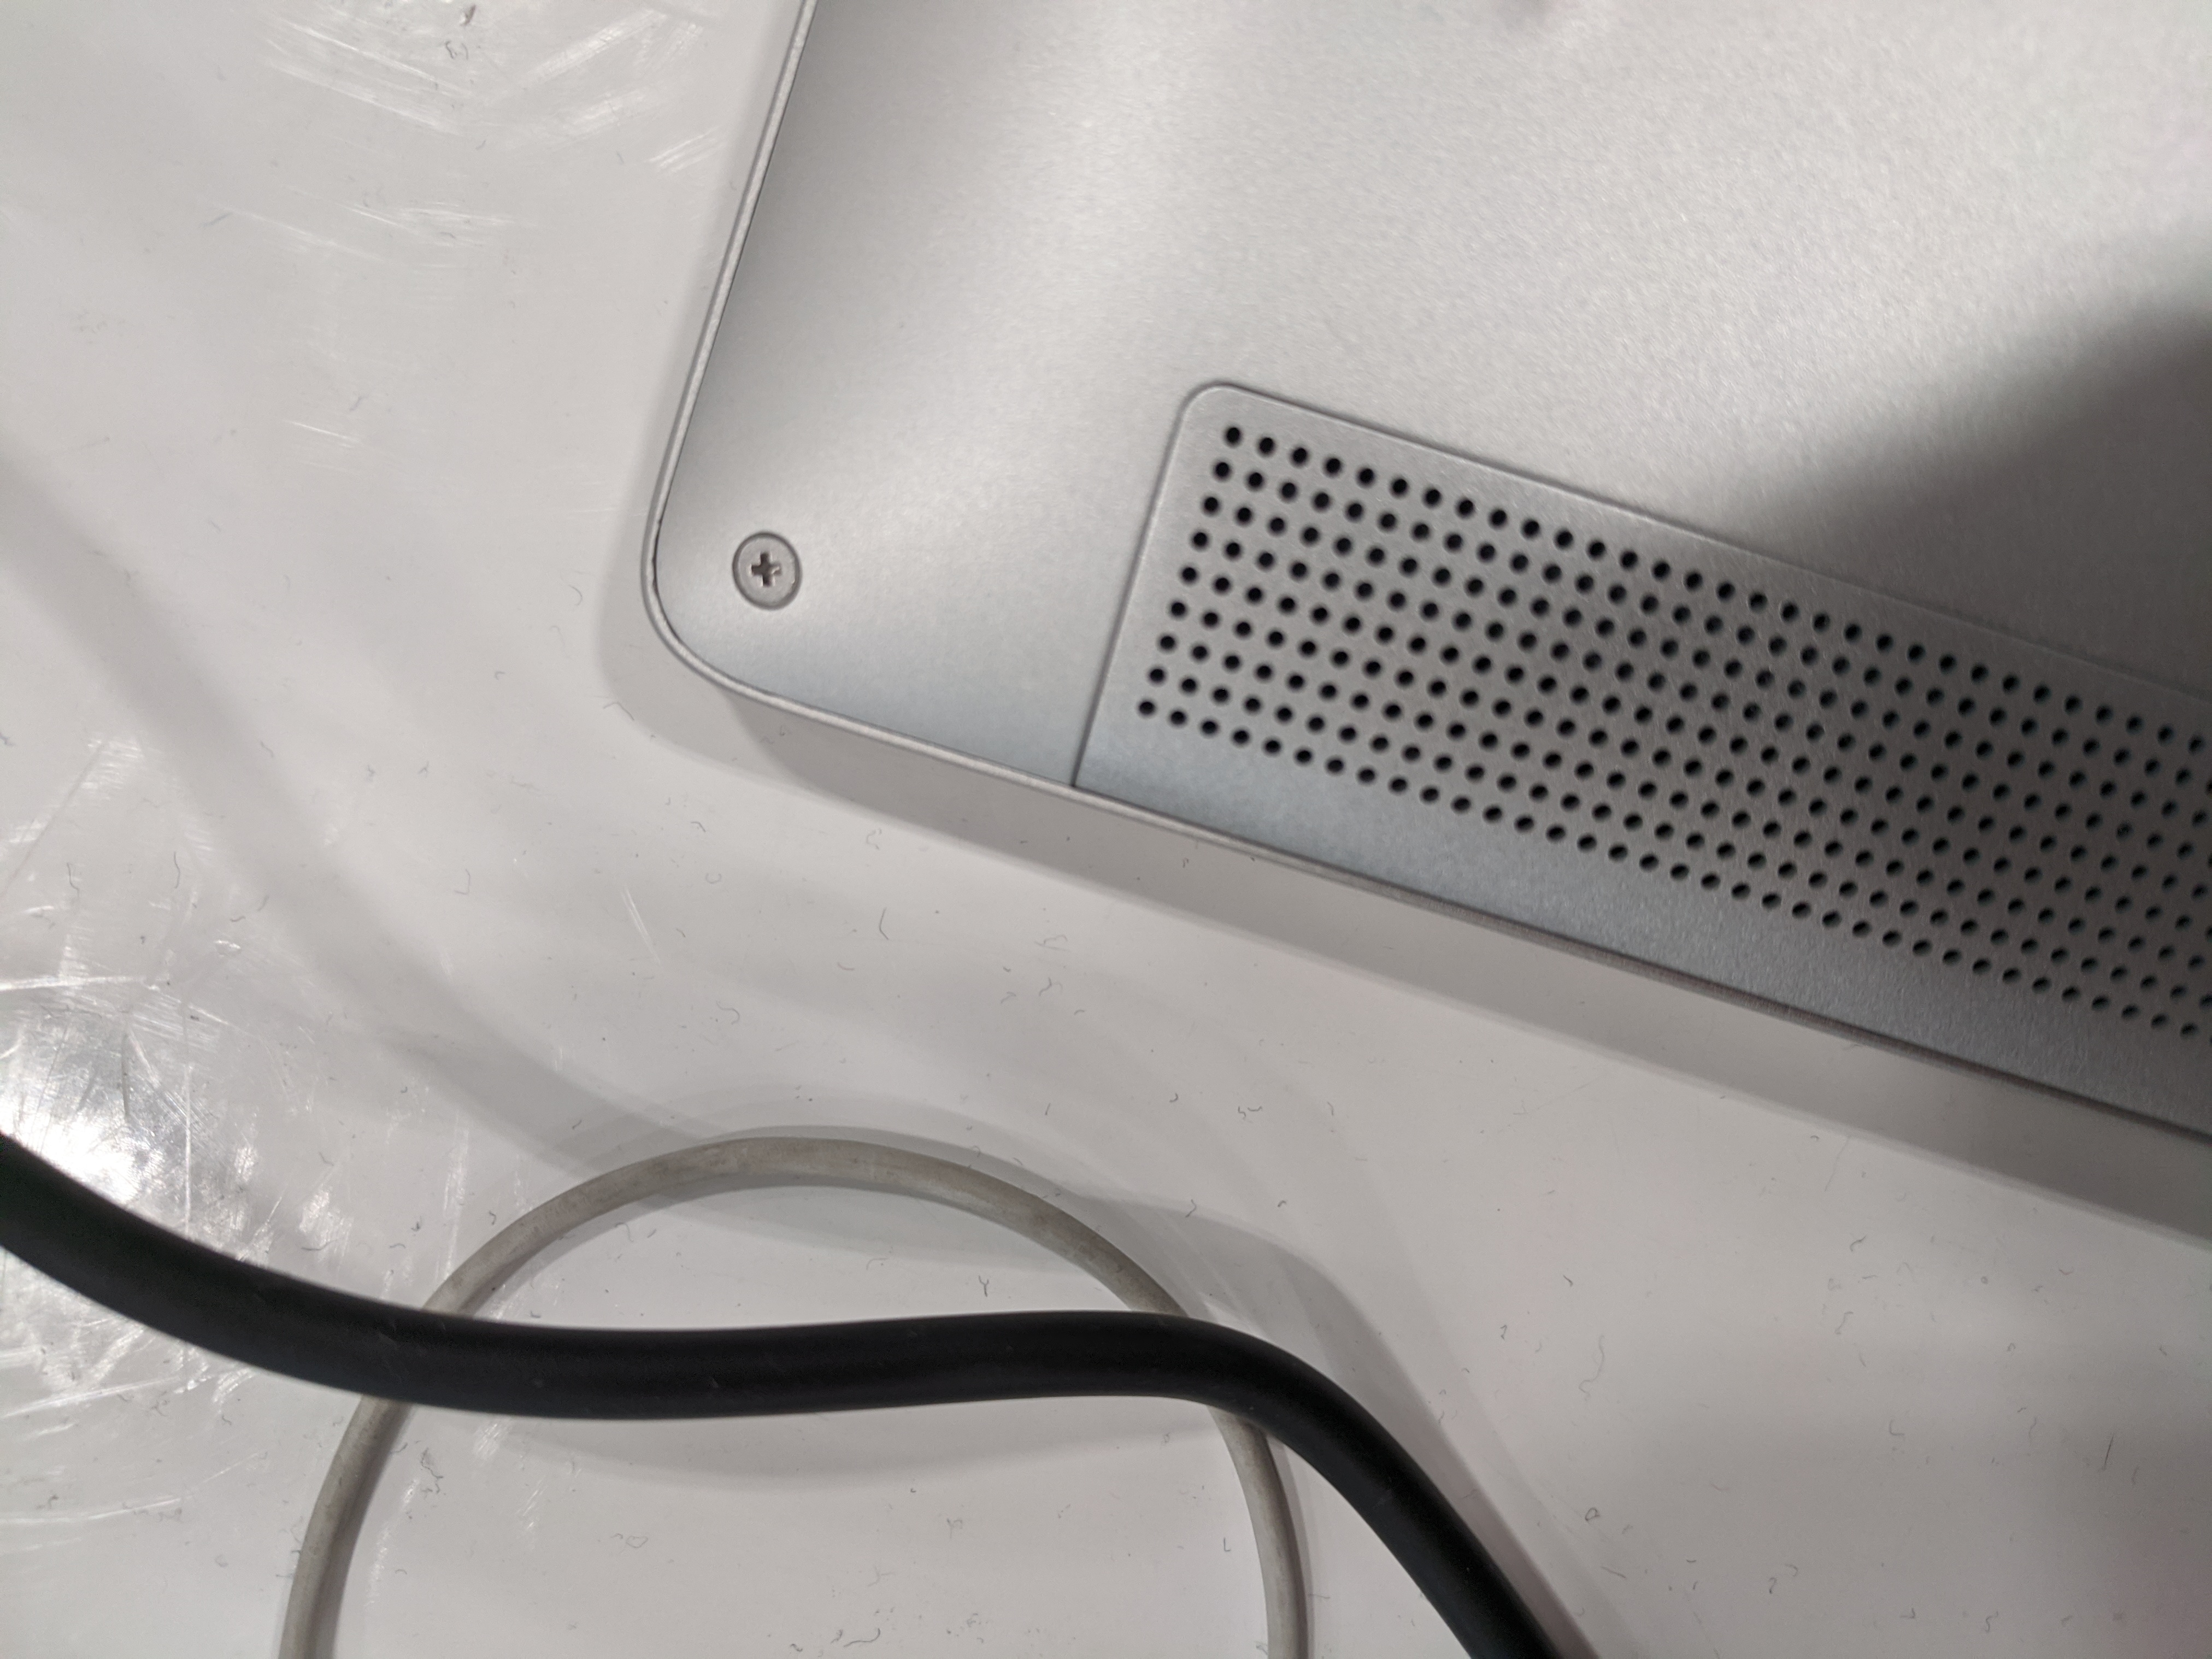cross_recessed_screw: (728, 530, 813, 612)
